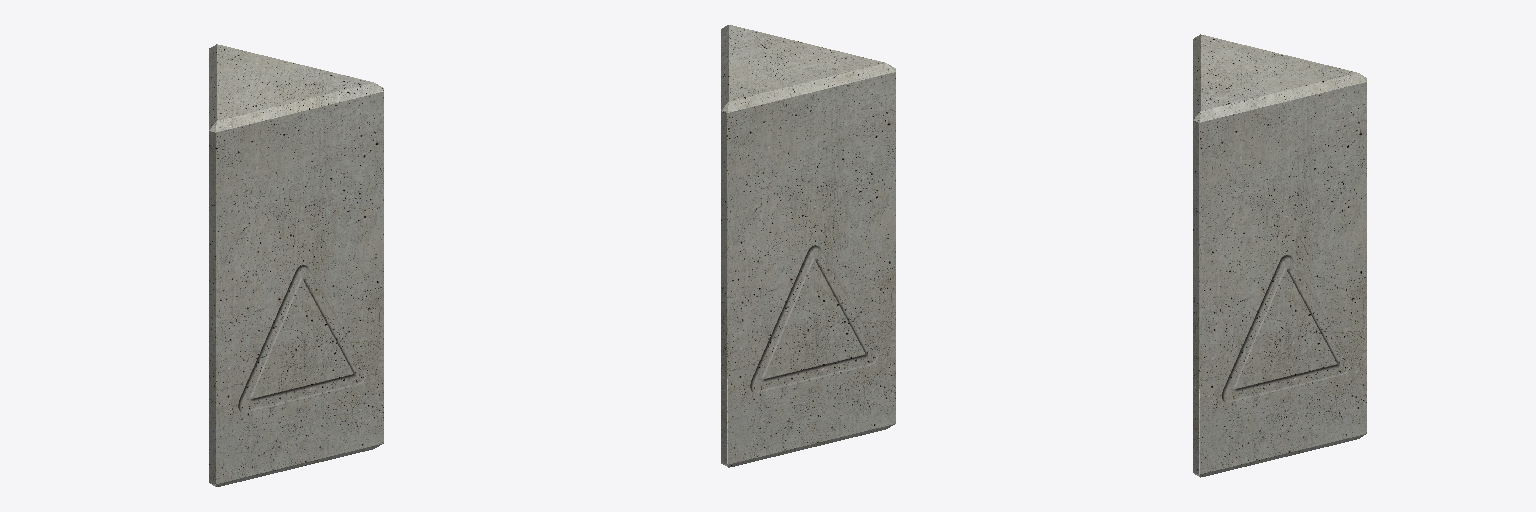
The picture shows the model from 3 angles: view 1: azimuth 30°, elevation 25°; view 2: azimuth 150°, elevation 25°; view 3: azimuth 270°, elevation 25°; orthographic projection.
Visible parts, largest first — view 1: Fire_Circle; view 2: Fire_Circle; view 3: Fire_Circle.
Part boxes in pixels (x1,y1,x2,y2): Fire_Circle: (209, 44, 383, 486); Fire_Circle: (721, 25, 895, 467); Fire_Circle: (1193, 34, 1366, 477).
Bounding box in the file's own units: 0.2498 × 0.5 × 0.2163.
1 materials, 1 textured.